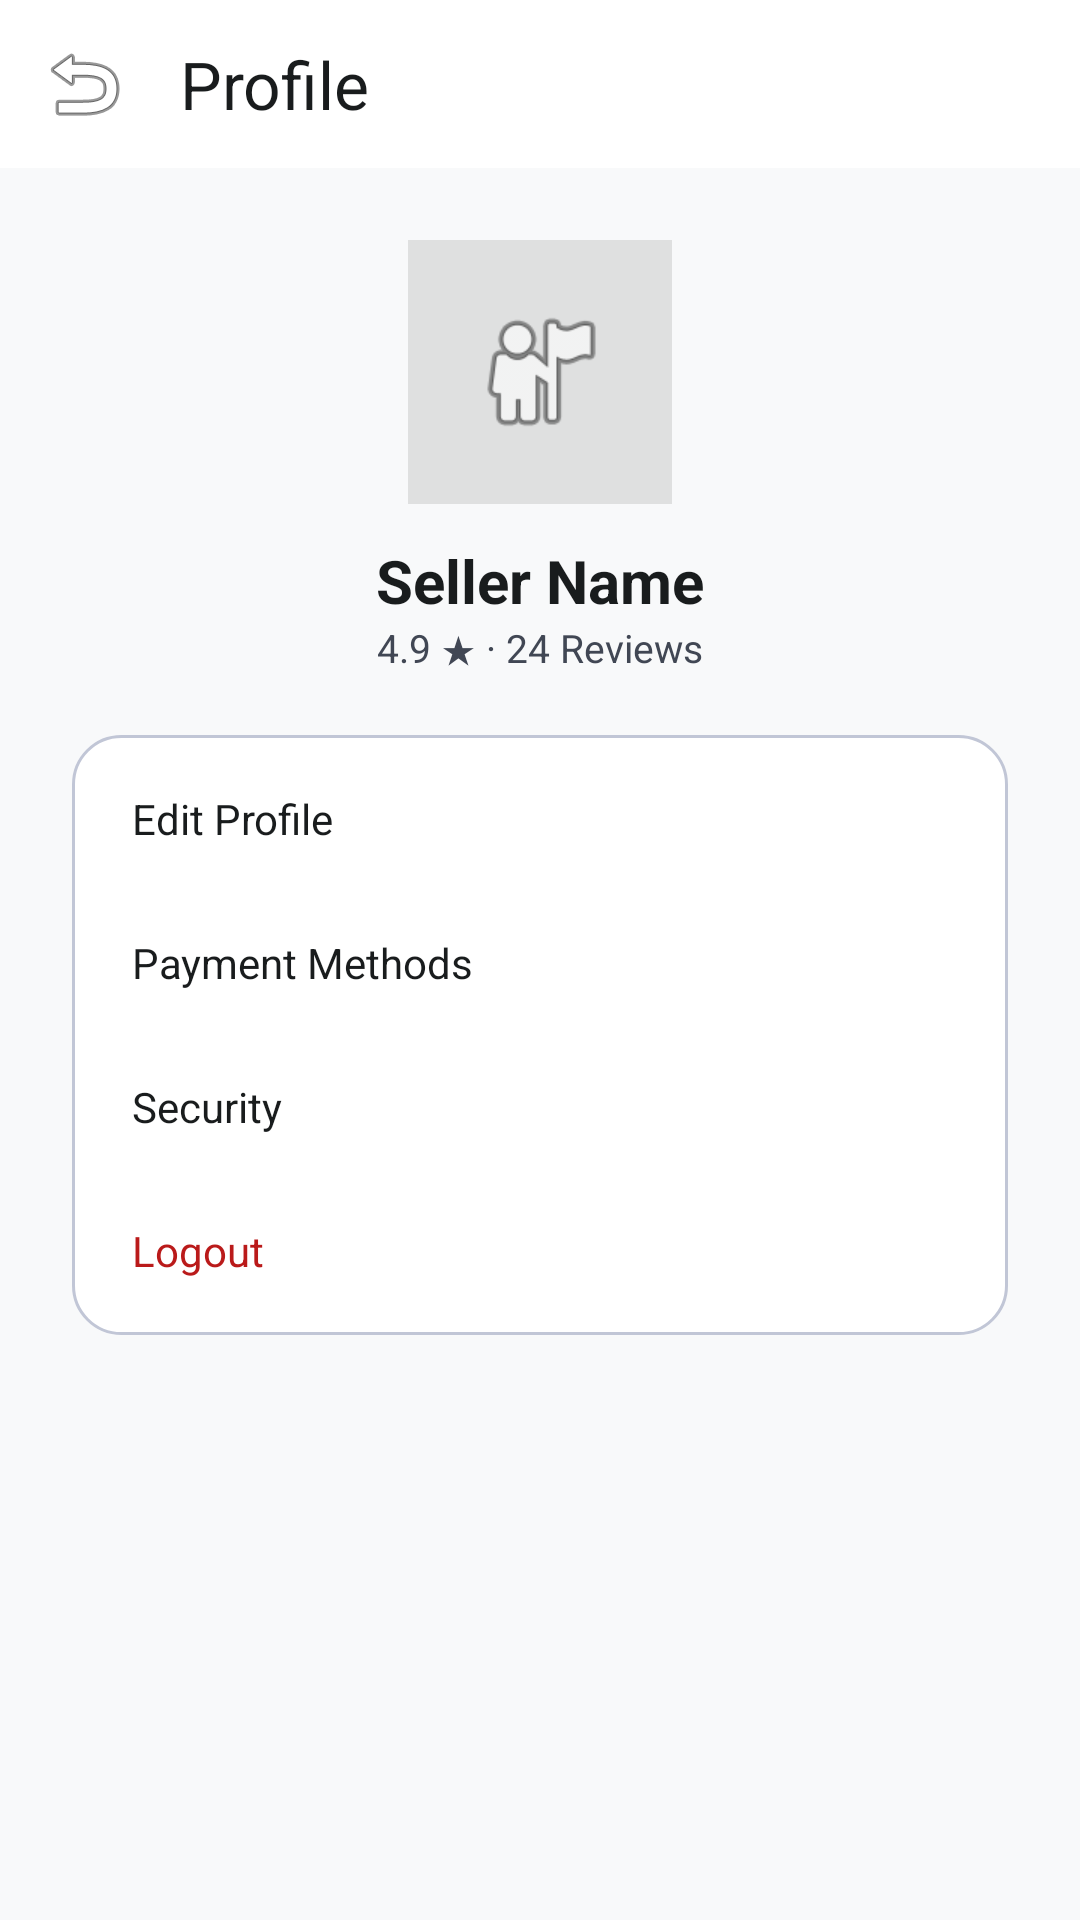

Where icons sit on this 1080w x 1920h app screen, as [x1,y1,x2,y2]:
myplaces: [408,240,672,504]
